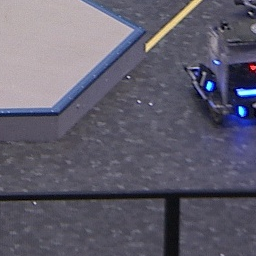Blue: (195, 63, 213, 94)
Robot: (186, 19, 256, 126)
